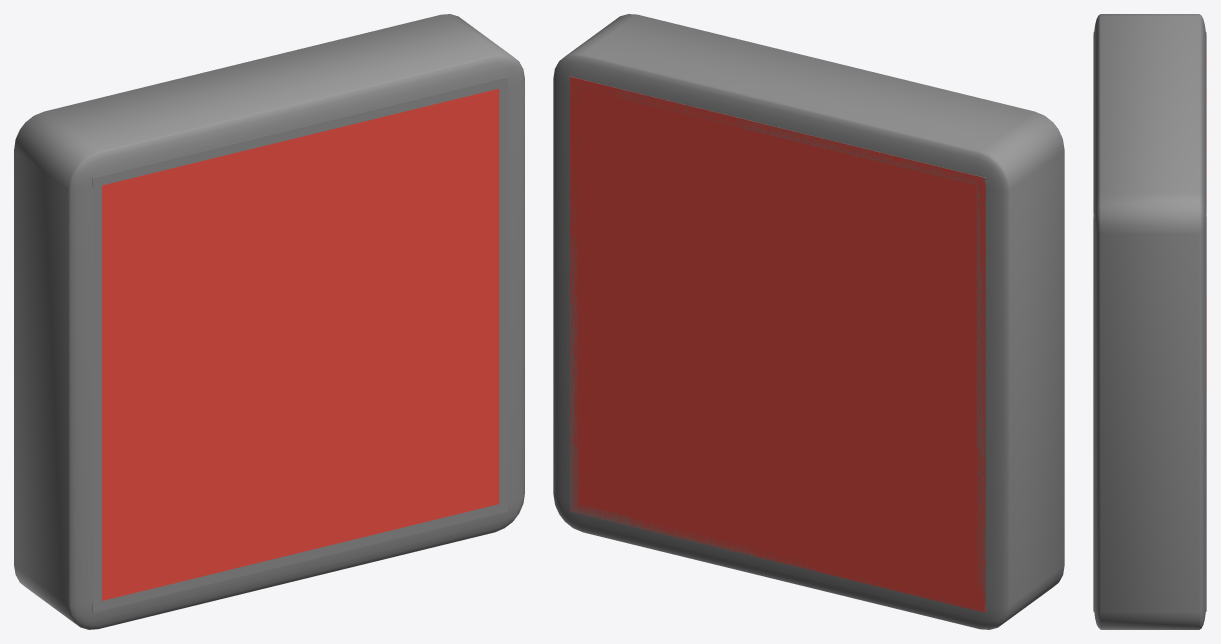
Rendered from redbutton.fbx.
3 views of the same model, side by side, from view 1: azimuth 30°, elevation 25°; view 2: azimuth 150°, elevation 25°; view 3: azimuth 270°, elevation 25° (orthographic). The views are drawn at different scales.
Parts seen in each view (by area): view 1: Cube.001; view 2: Cube.001; view 3: Cube.001.
Boxes of the visible parts, x1,y1,x2,y2 form: Cube.001: (14,14,524,629); Cube.001: (553,14,1064,629); Cube.001: (1093,14,1206,629).
Bounding box in the file's own units: 440 × 440 × 104.
